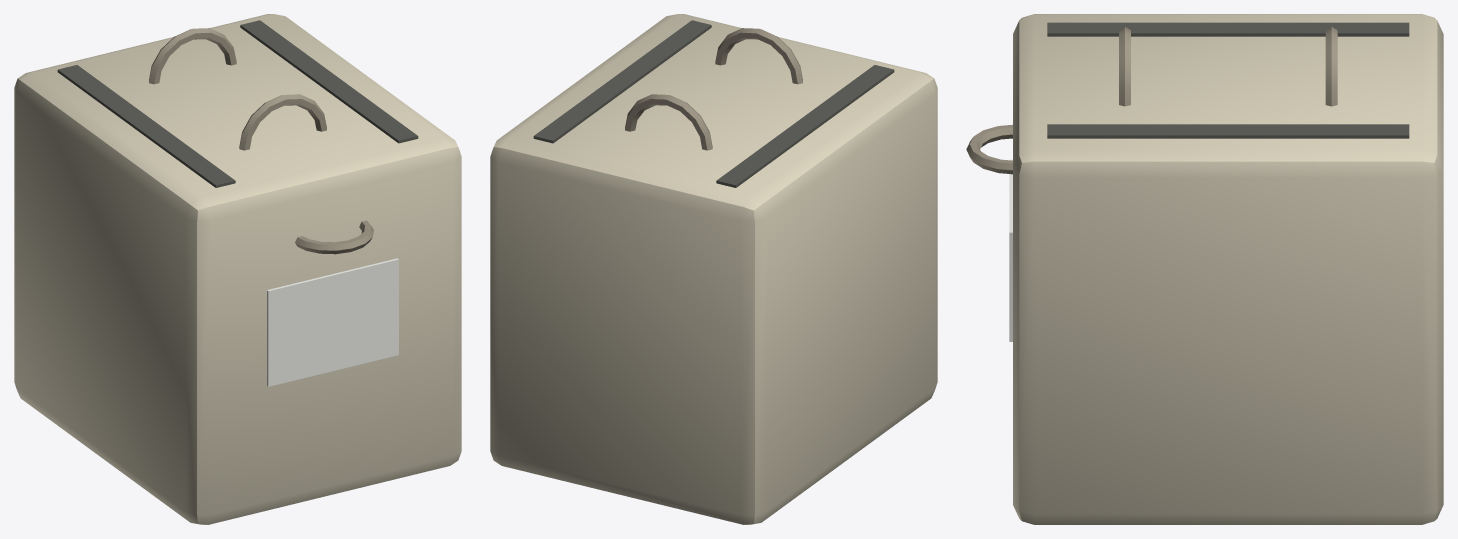
The model's file is SM_BTC_2.fbx.
3 renders of one model, left to right at view 1: azimuth 30°, elevation 25°; view 2: azimuth 150°, elevation 25°; view 3: azimuth 270°, elevation 25°, orthographic. The views are drawn at different scales.
Visible parts, largest first — view 1: SM_BTC_2; view 2: SM_BTC_2; view 3: SM_BTC_2.
Part boxes in pixels (left/top/right/bottom): SM_BTC_2: left=14, top=14, right=461, bottom=524; SM_BTC_2: left=490, top=14, right=937, bottom=524; SM_BTC_2: left=966, top=14, right=1443, bottom=524.
Bounding box in the file's own units: 0.42 × 0.544 × 0.554.
